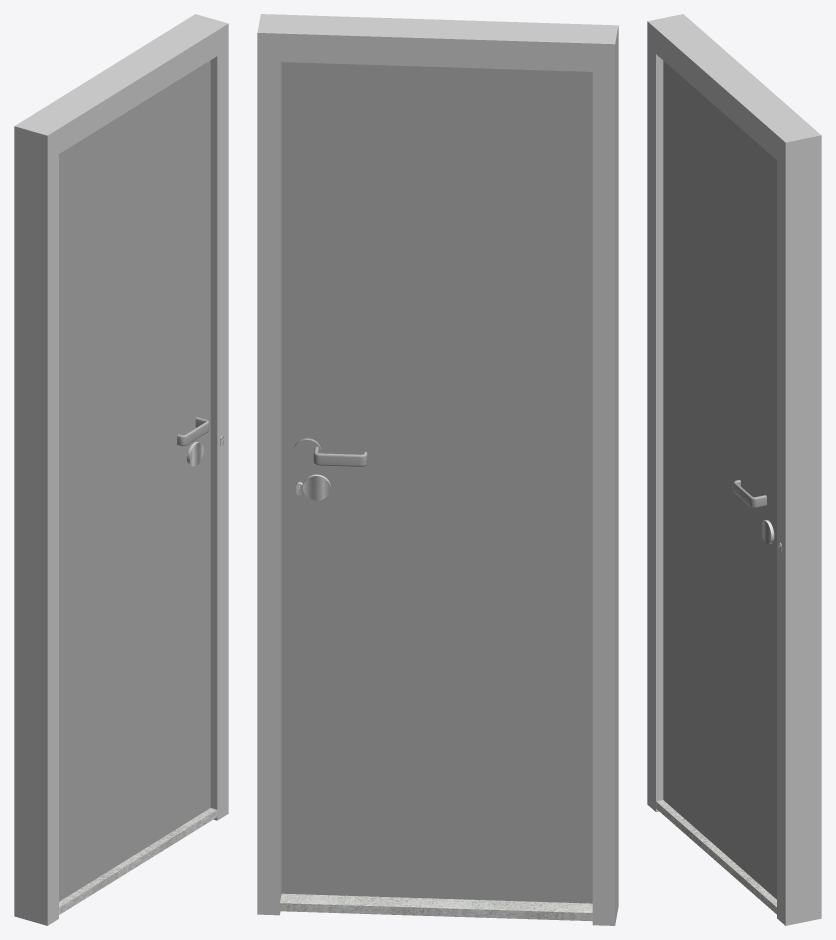
Rendered from PortaBanheiro.fbx.
3 renders of one model, left to right at view 1: azimuth 30°, elevation 25°; view 2: azimuth 150°, elevation 25°; view 3: azimuth 270°, elevation 25°, orthographic. The views are drawn at different scales.
Visible parts, largest first — view 1: group_.068, group_ 2.031, group_ 18.002, group_.070; view 2: group_.068, group_ 2.031, group_ 18.002, group_.072; view 3: group_.068, group_ 2.031, group_ 18.002, group_.070.
Part boxes in pixels (<box>): group_.068: <box>59,60,210,901</box>; group_ 2.031: <box>14,14,228,925</box>; group_ 18.002: <box>59,808,217,914</box>; group_.070: <box>177,417,208,446</box>; group_.068: <box>281,62,592,903</box>; group_ 2.031: <box>257,14,618,925</box>; group_ 18.002: <box>280,893,592,921</box>; group_.072: <box>313,446,367,466</box>; group_.068: <box>663,61,776,899</box>; group_ 2.031: <box>647,14,821,925</box>; group_ 18.002: <box>656,800,776,914</box>; group_.070: <box>733,480,766,507</box>.
Size of the model in its own units: 76.42 by 217 by 43.7.
Materials: 4 (2 with a texture image).
